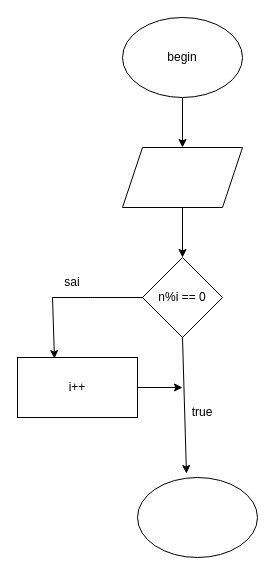
Image size: 275x575. Some labels were removed from this diagram. Here are the shapes that lost their labels. From the top down, the centre of each, then its label:
At point (182, 177): "N, i=2".
At point (197, 517): "end".
